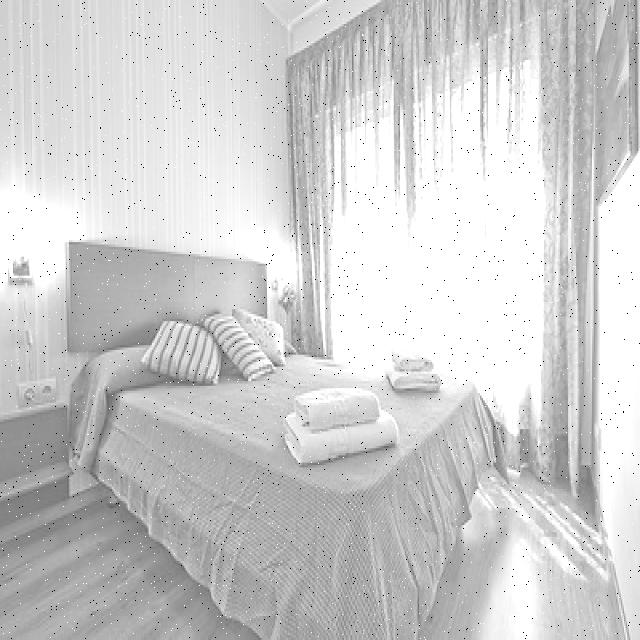bed: (78, 246, 498, 632)
